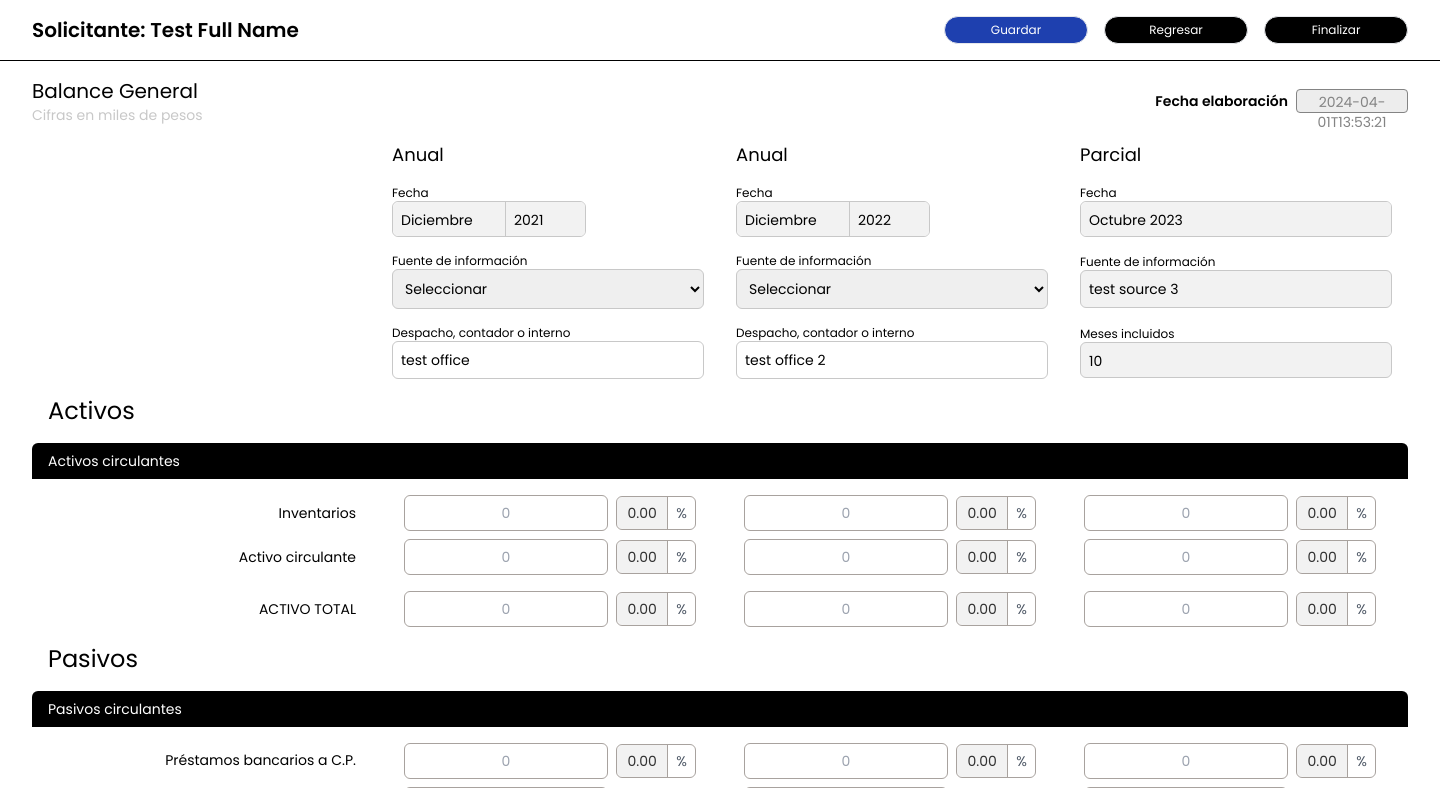
it: GeneralBalance page › it should calculate "Activo circulante" percentage based on "ACTIVO TOTAL"
The width and height of the screenshot is (1440, 788).
Type "742" into the 4th field with placeholder "0" at (506, 557), box top-left (404, 539), bottom-right (608, 575)
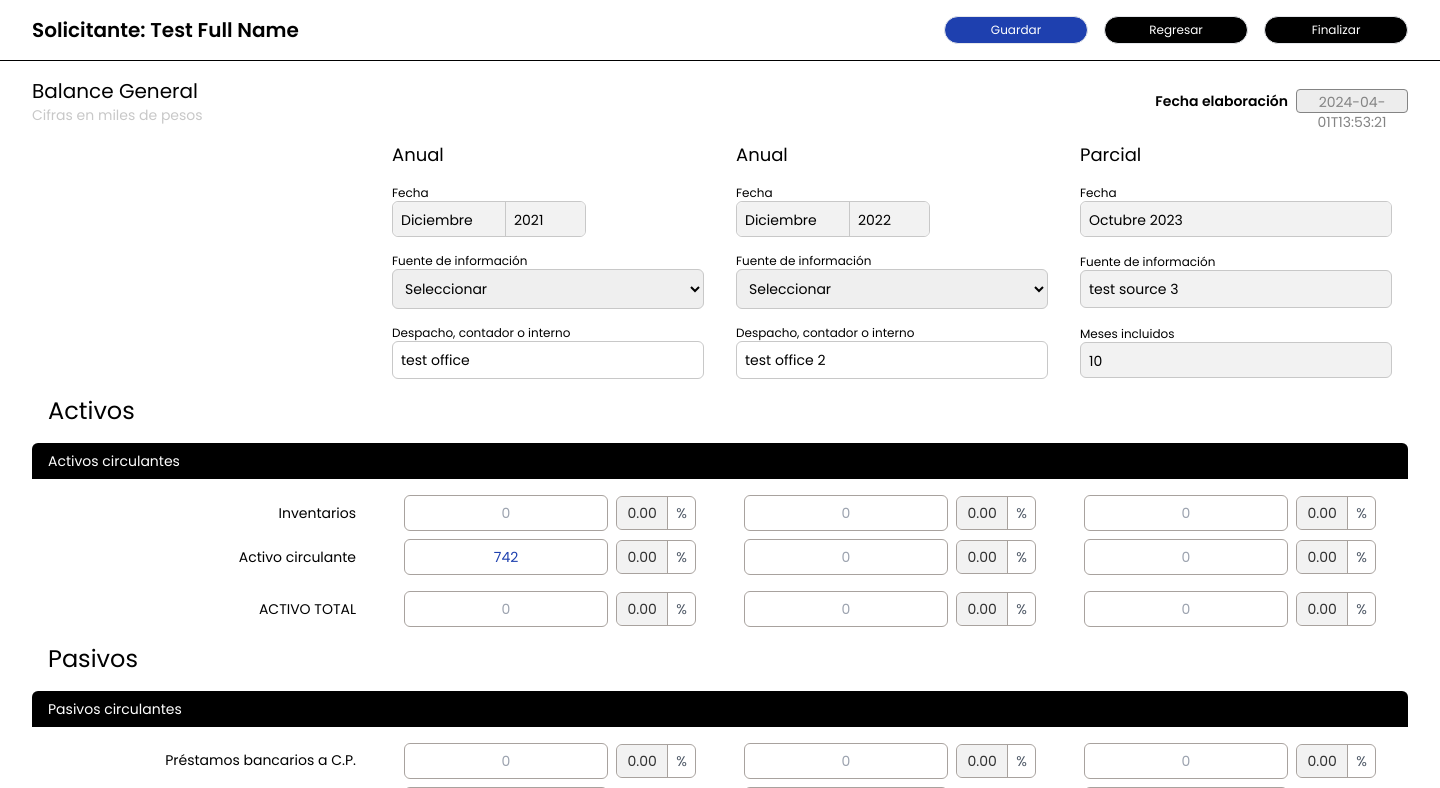
Type "1000" into the 6th field with placeholder "0" at (506, 609), box top-left (404, 591), bottom-right (608, 627)
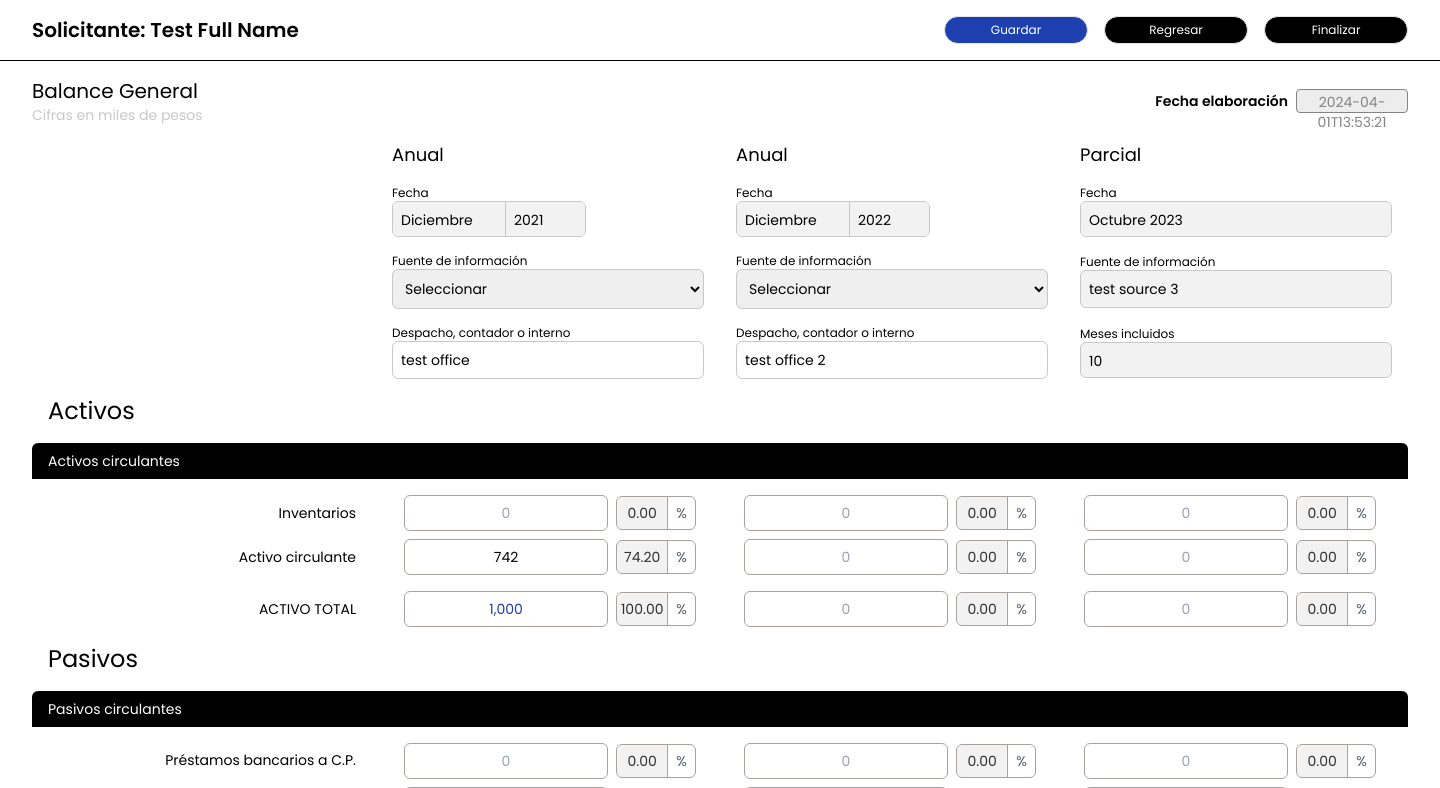
Expected: the 5th field showing "74.20" is shown, top-left (617, 541), bottom-right (667, 573)
